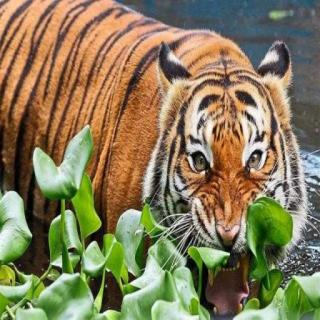Tiger: (2, 1, 314, 317)
